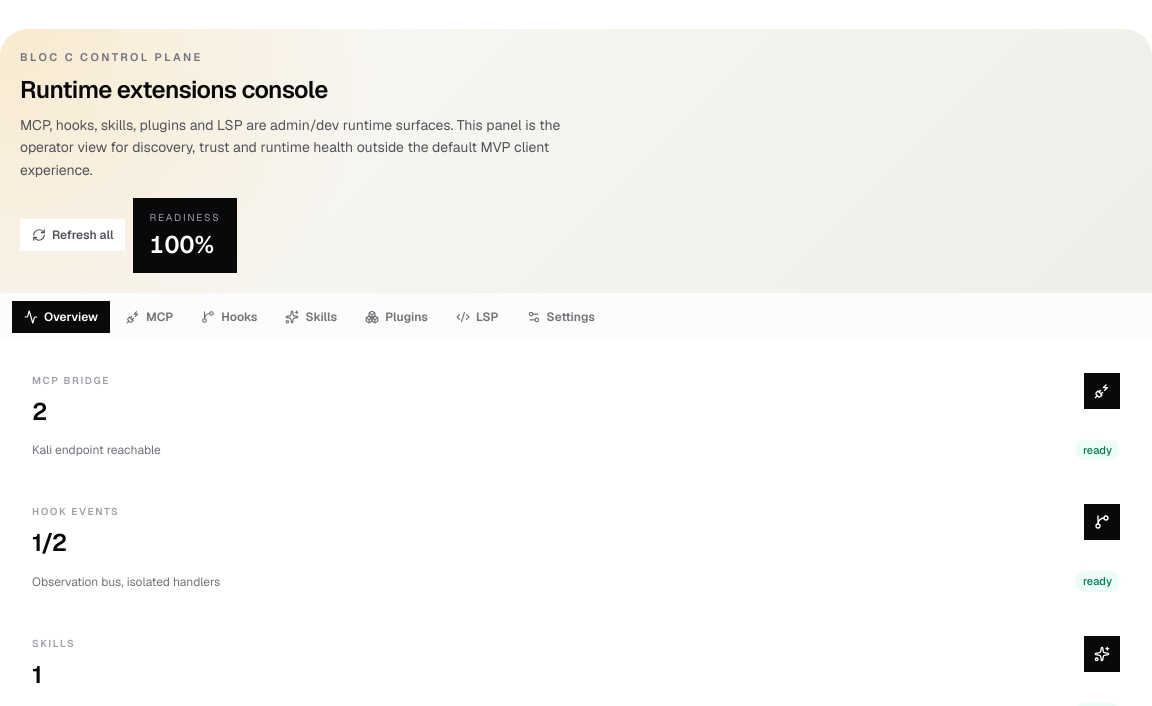
Test: RuntimeExtensionsPanel › runs LSP diagnostics from the LSP tab
This screenshot has width=1152, height=706.
Click the button "LSP".
click(477, 317)  # box [444,301,511,333]
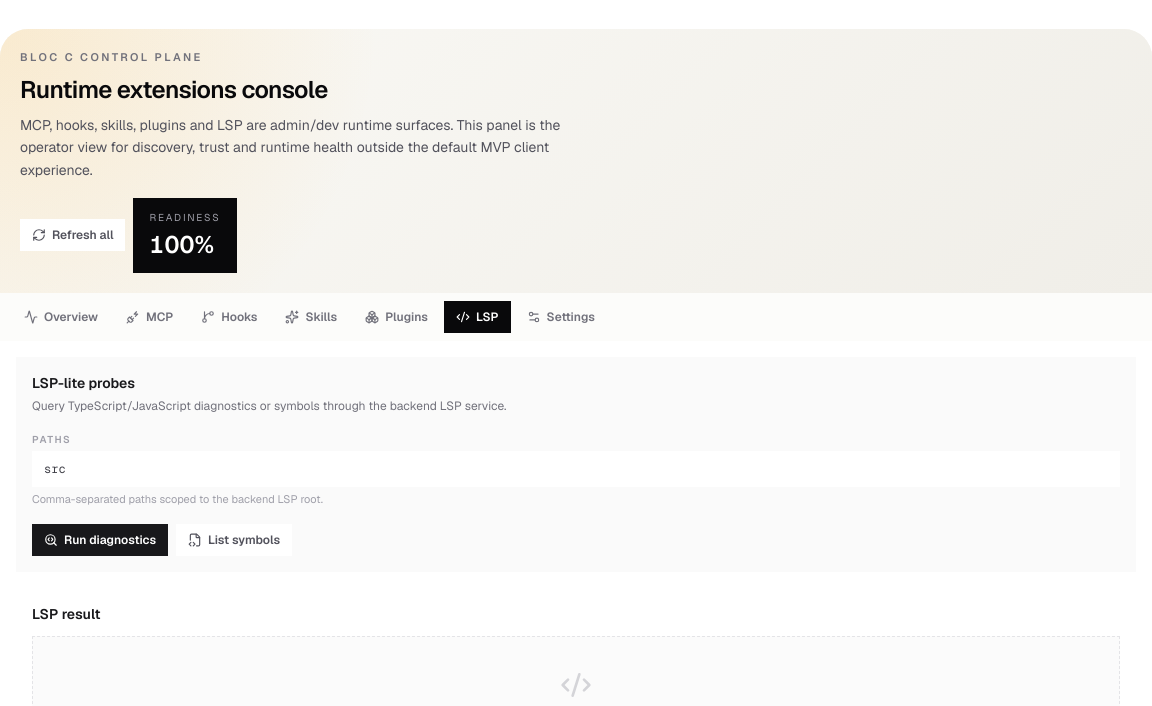
Click the button "Run diagnostics".
click(100, 540)  # box [32,524,168,556]
(page scrolled)
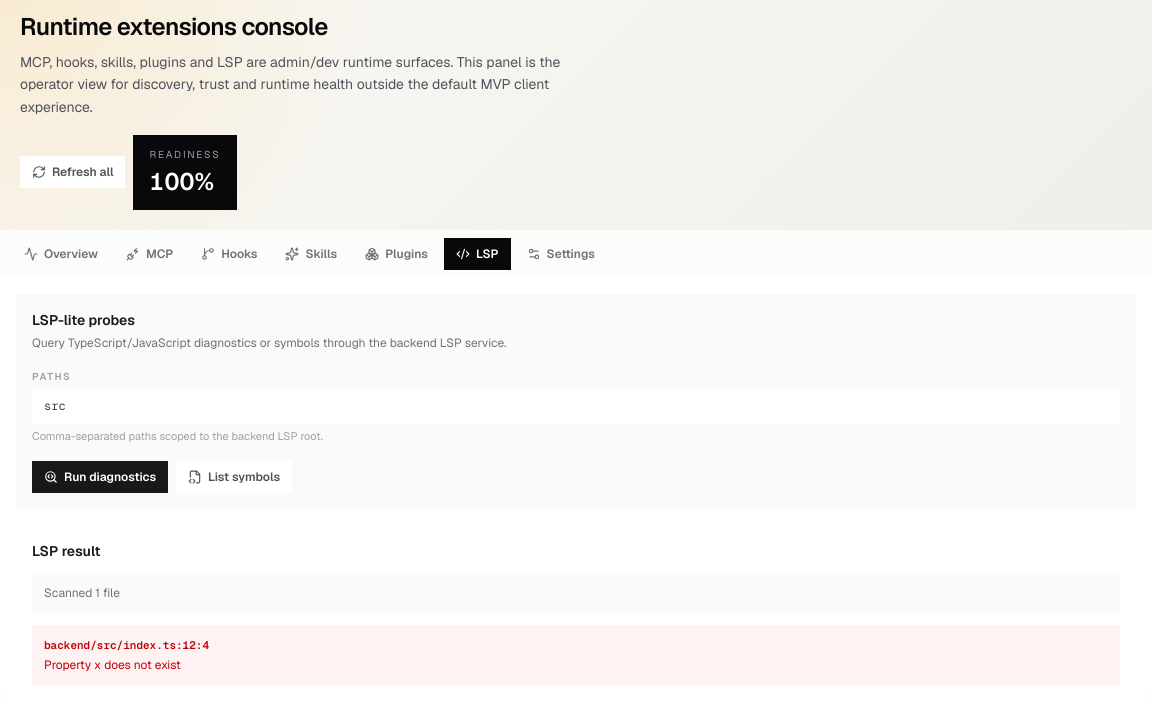
Now the text "Property x does not exist" is shown, box [44,657,181,673]
